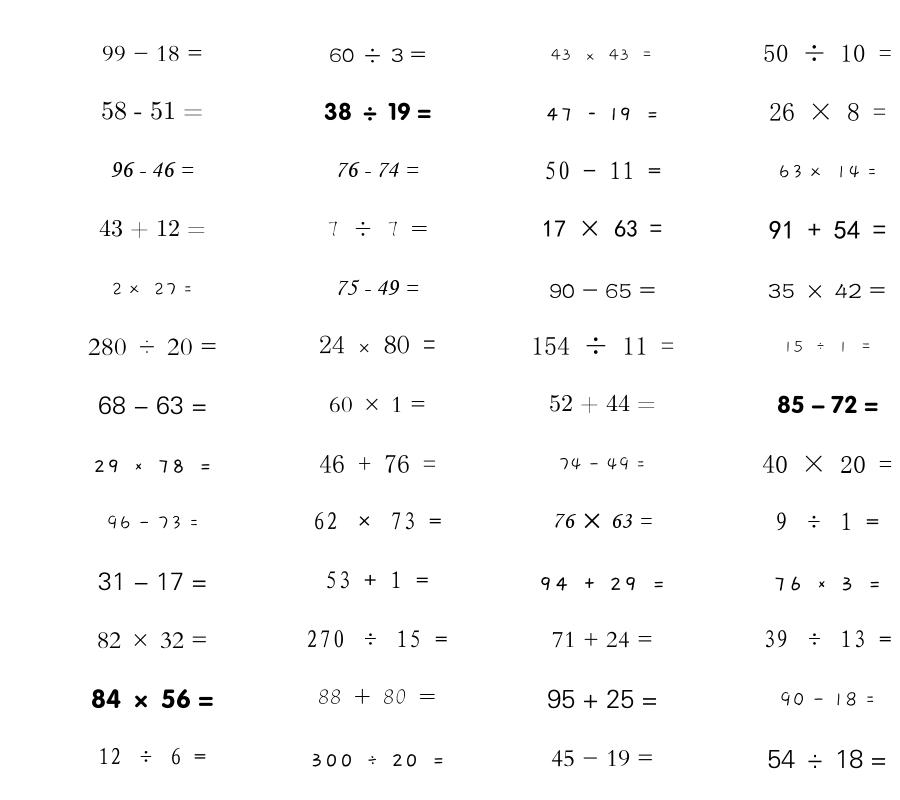MQ: (531, 336, 674, 355), (306, 630, 448, 648), (91, 689, 214, 709), (767, 749, 887, 769), (762, 455, 892, 473), (763, 44, 892, 62), (88, 338, 217, 356), (313, 512, 442, 530), (763, 630, 892, 648), (544, 161, 661, 180), (769, 220, 886, 239), (319, 335, 436, 354), (547, 689, 658, 709), (769, 103, 886, 121), (319, 455, 436, 473), (98, 396, 207, 415), (98, 572, 207, 591), (542, 220, 662, 237), (324, 102, 431, 121), (99, 219, 206, 238), (549, 394, 656, 413), (775, 512, 879, 531), (98, 747, 206, 765), (101, 101, 203, 120), (777, 395, 878, 414), (310, 753, 445, 767), (768, 283, 886, 299), (97, 632, 208, 649), (325, 571, 429, 589), (538, 577, 666, 591), (318, 689, 436, 704), (551, 750, 654, 767), (102, 45, 203, 62), (552, 631, 653, 648), (93, 459, 212, 473), (329, 396, 426, 413), (773, 576, 882, 591), (327, 221, 428, 237), (549, 283, 656, 298), (552, 513, 652, 529), (545, 107, 659, 121), (779, 691, 875, 707), (778, 164, 877, 179), (329, 48, 426, 63), (335, 279, 419, 296), (106, 515, 199, 530), (335, 162, 419, 178), (110, 162, 194, 177), (558, 457, 646, 471), (551, 49, 653, 61), (783, 340, 872, 353), (111, 282, 193, 296)
